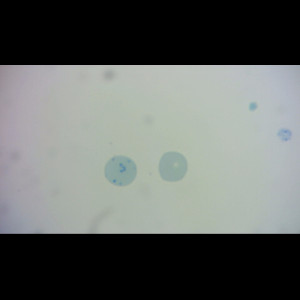aggregate reticulocyte: (103, 154, 137, 187)
erythrocyte: (157, 150, 189, 183)
